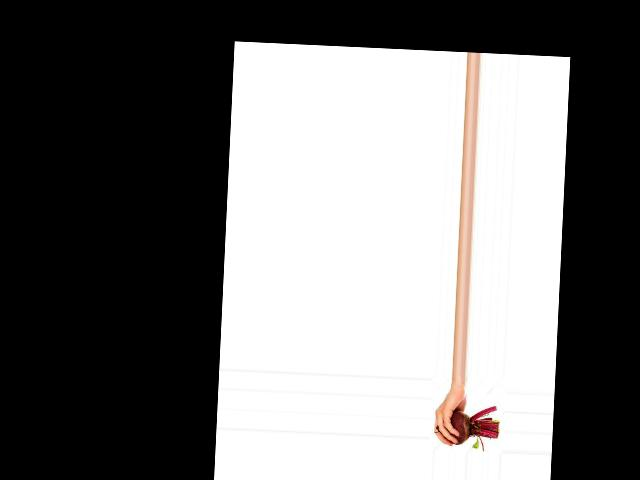beet: (434, 403, 500, 451)
